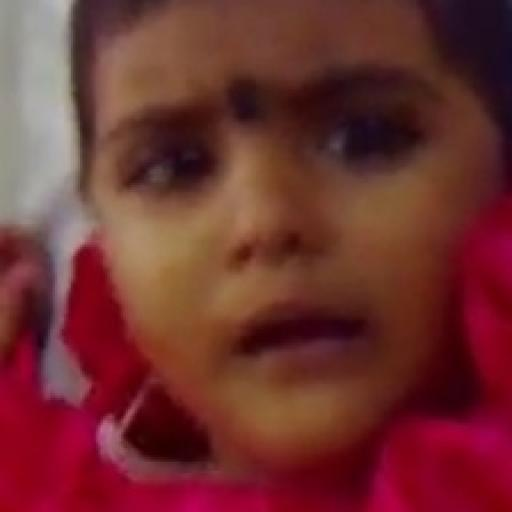Autism: (61, 2, 512, 511)
